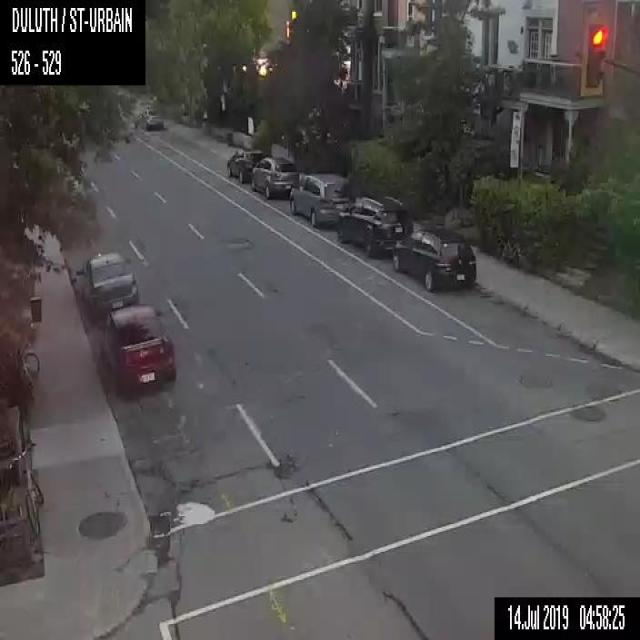vehicle: (103, 304, 175, 392), (392, 228, 477, 289), (337, 193, 413, 256), (76, 251, 138, 318), (289, 171, 354, 227), (252, 155, 299, 199), (226, 148, 265, 182), (144, 106, 164, 130)
